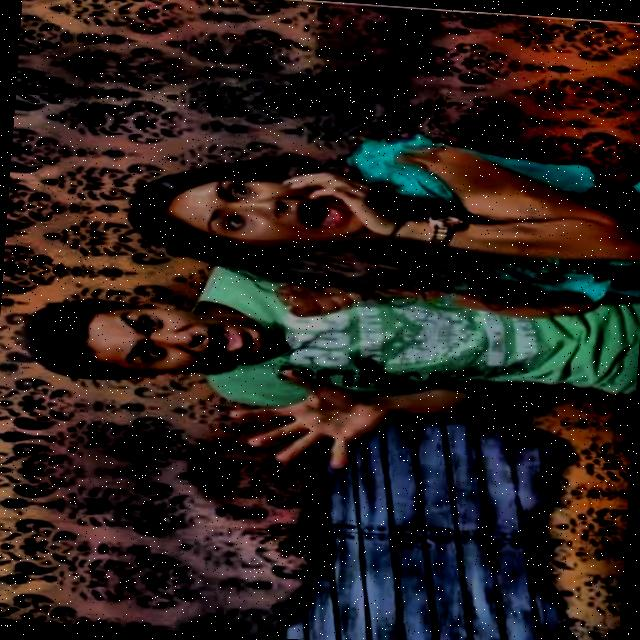fear: (22, 276, 275, 397), (114, 151, 360, 261)
